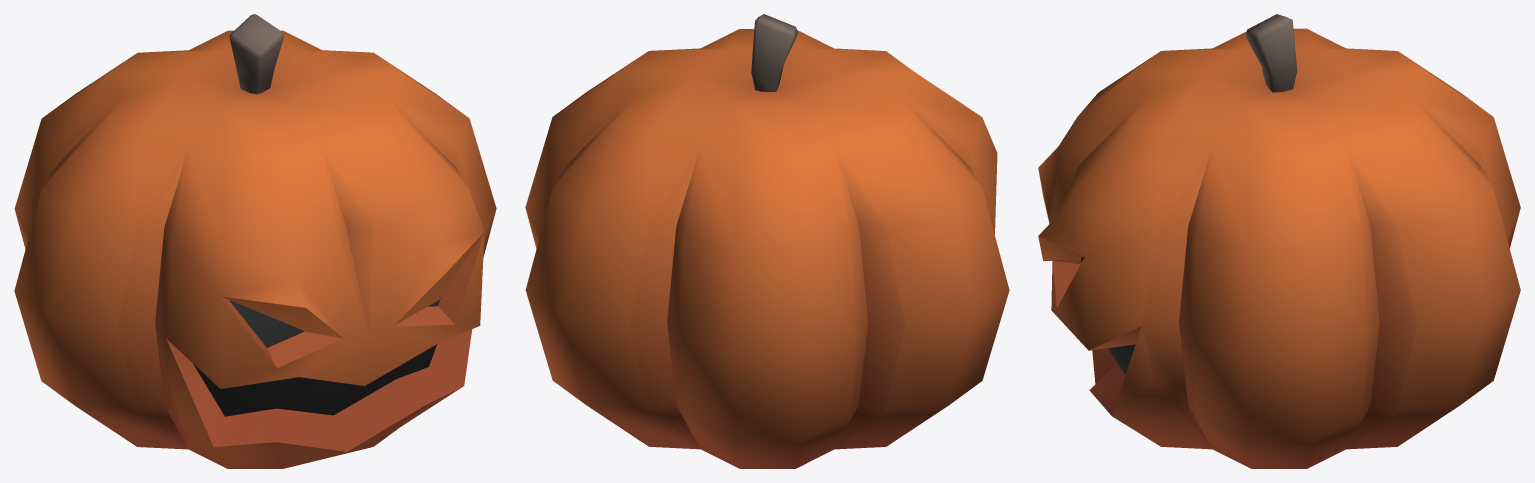
The model's file is hw-pumpkin_orange_jackolantern.glb.
3 views of the same model, side by side, from view 1: azimuth 30°, elevation 25°; view 2: azimuth 150°, elevation 25°; view 3: azimuth 270°, elevation 25° (orthographic).
Parts seen in each view (by area): view 1: pumpkin_orange_jackolantern; view 2: pumpkin_orange_jackolantern; view 3: pumpkin_orange_jackolantern.
Boxes of the visible parts, box(x1,y1,x2,y2) form: pumpkin_orange_jackolantern: box(14, 14, 496, 468); pumpkin_orange_jackolantern: box(525, 14, 1009, 468); pumpkin_orange_jackolantern: box(1038, 14, 1520, 468).
Size of the model in its own units: 1.5 by 1.3 by 1.4.
Materials: 1 (1 with a texture image).
